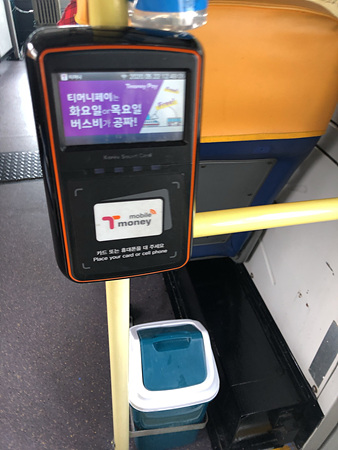terminal: (32, 27, 193, 274)
